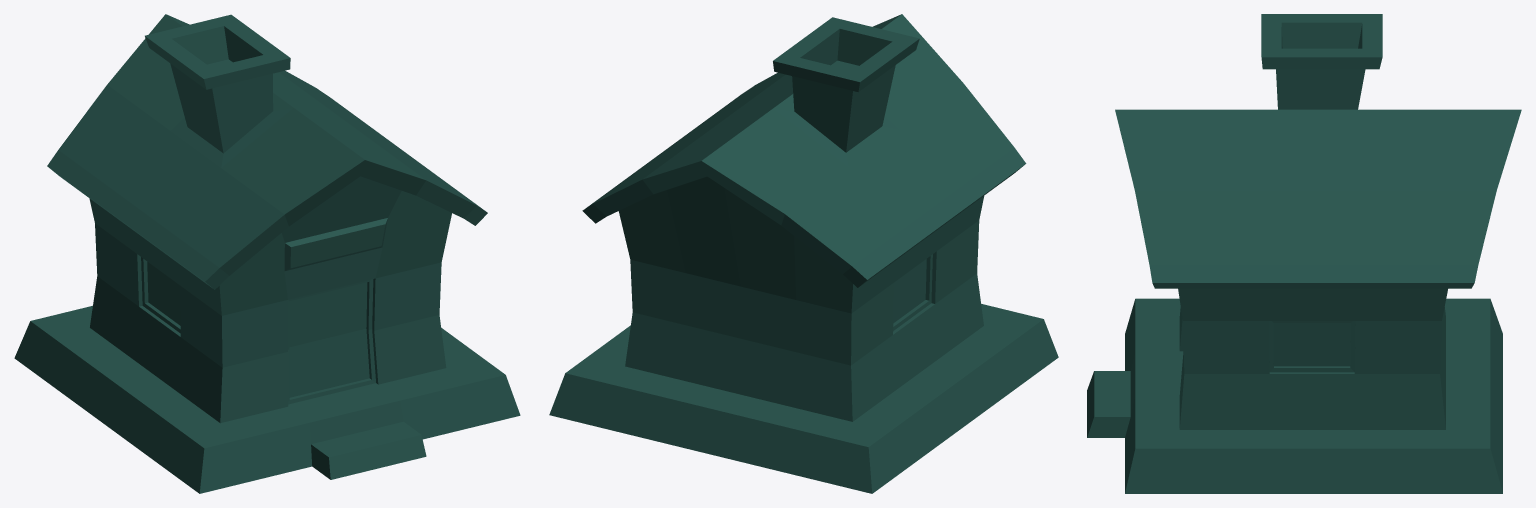
Rendered from Casinha.fbx.
3 renders of one model, left to right at view 1: azimuth 30°, elevation 25°; view 2: azimuth 150°, elevation 25°; view 3: azimuth 270°, elevation 25°, orthographic. The views are drawn at different scales.
Parts seen in each view (by area): view 1: Casinha; view 2: Casinha; view 3: Casinha.
Part boxes in pixels (x1=…): Casinha: x1=14, y1=14, x2=520, y2=493; Casinha: x1=549, y1=14, x2=1058, y2=493; Casinha: x1=1087, y1=14, x2=1521, y2=493.
Size of the model in its own units: 123 by 141 by 127.
